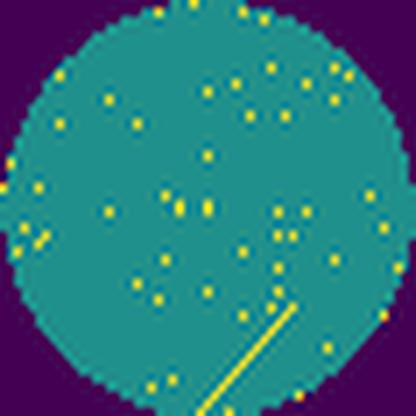Scratch: (192, 300, 300, 416)
